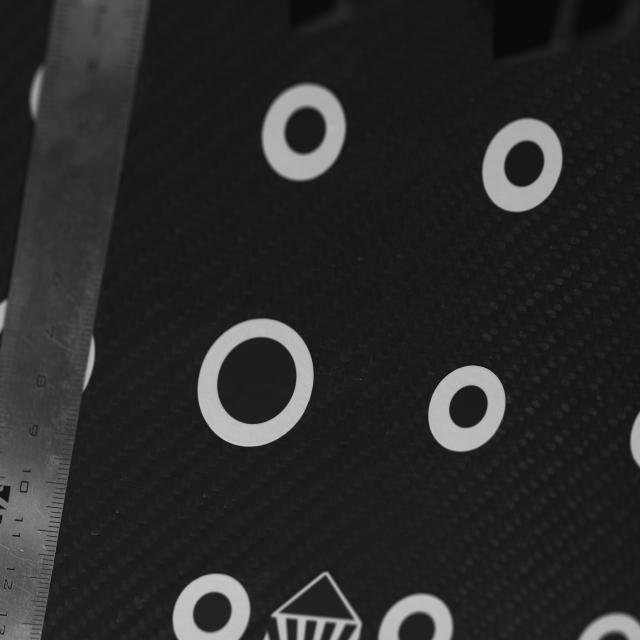circle point: (217, 337, 296, 425), (285, 107, 326, 155), (504, 140, 544, 187), (449, 385, 488, 428), (194, 593, 231, 632)
white circle: (198, 319, 314, 446), (262, 83, 347, 182), (482, 119, 563, 212), (429, 364, 506, 452), (173, 573, 251, 640)
